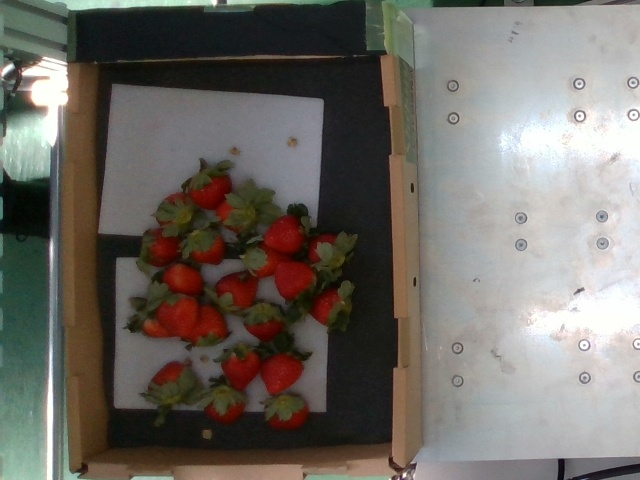strawberry: (222, 346, 262, 394), (152, 361, 194, 406), (262, 350, 304, 394), (213, 272, 260, 311), (243, 303, 285, 346), (274, 261, 319, 301), (159, 293, 198, 337), (265, 392, 309, 431), (188, 173, 232, 211), (185, 306, 229, 344), (155, 193, 198, 231), (263, 215, 306, 252), (245, 245, 294, 277), (160, 263, 204, 297), (141, 231, 182, 267), (208, 386, 243, 428), (305, 289, 346, 324), (215, 199, 253, 236), (185, 230, 225, 264), (308, 234, 345, 269), (141, 309, 173, 340)
